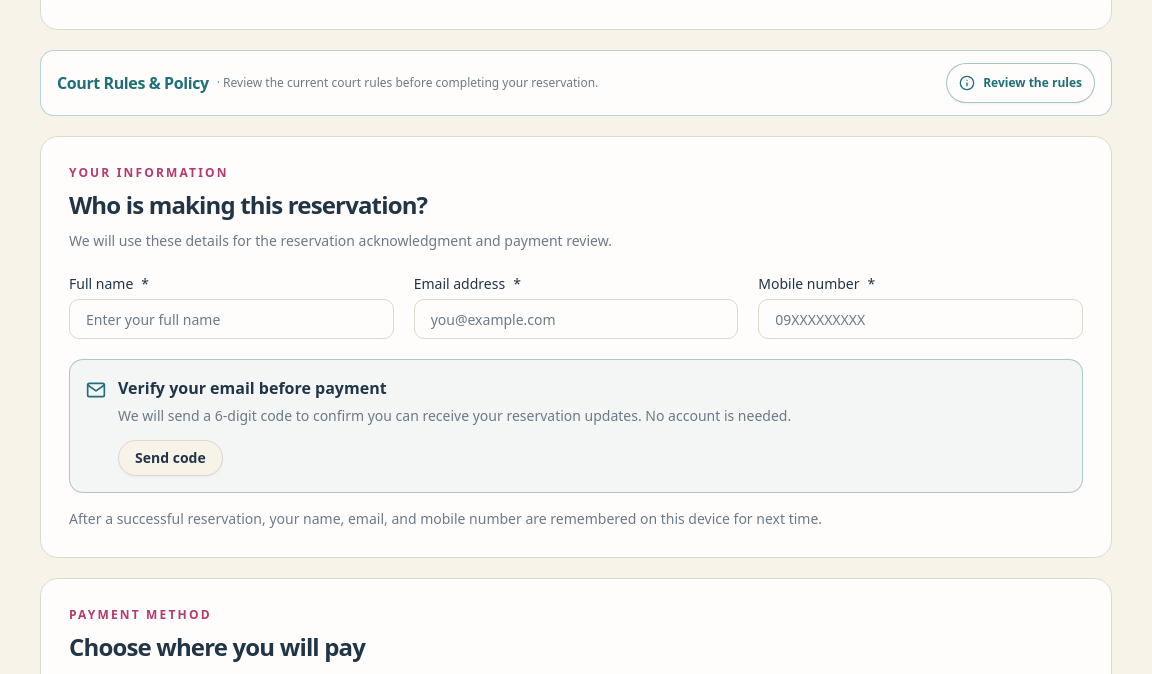
Scenario: ReservationCheckout › keeps unavailable selections locked after successful email verification
(page scrolled)
Step 1. Type "mark@example.com" into the field labelled "Email address" → [576, 319], box [414,299,738,339]
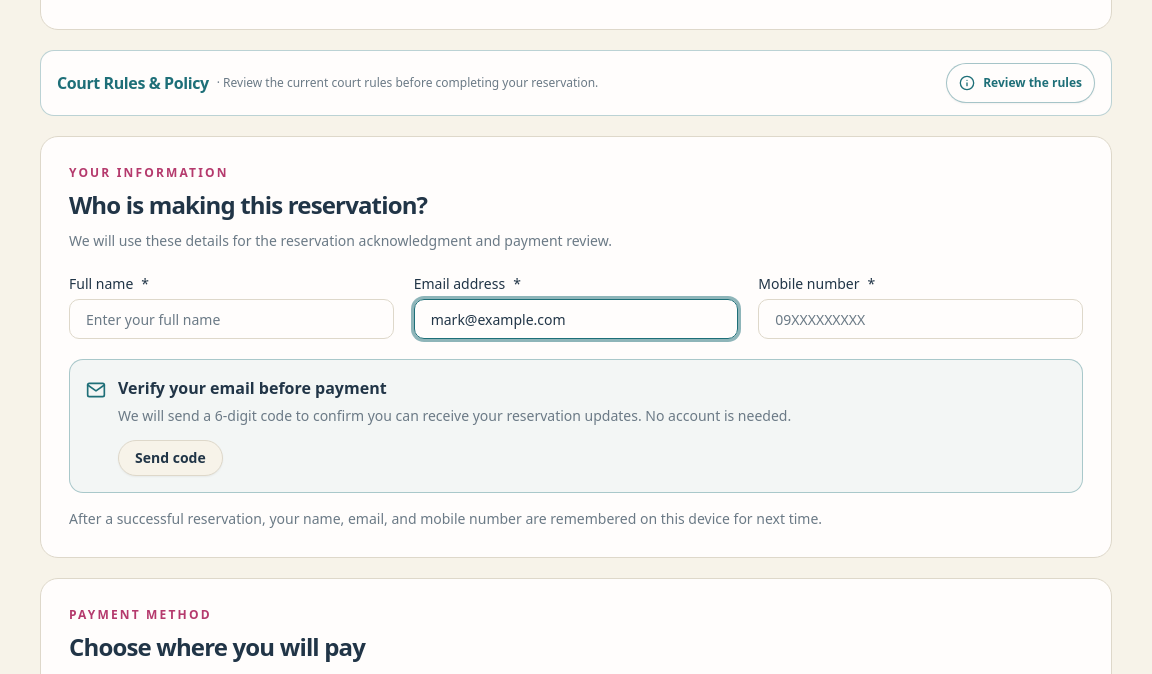
Step 2. Click the button "Send code" → [170, 458], box [118,440,223,476]
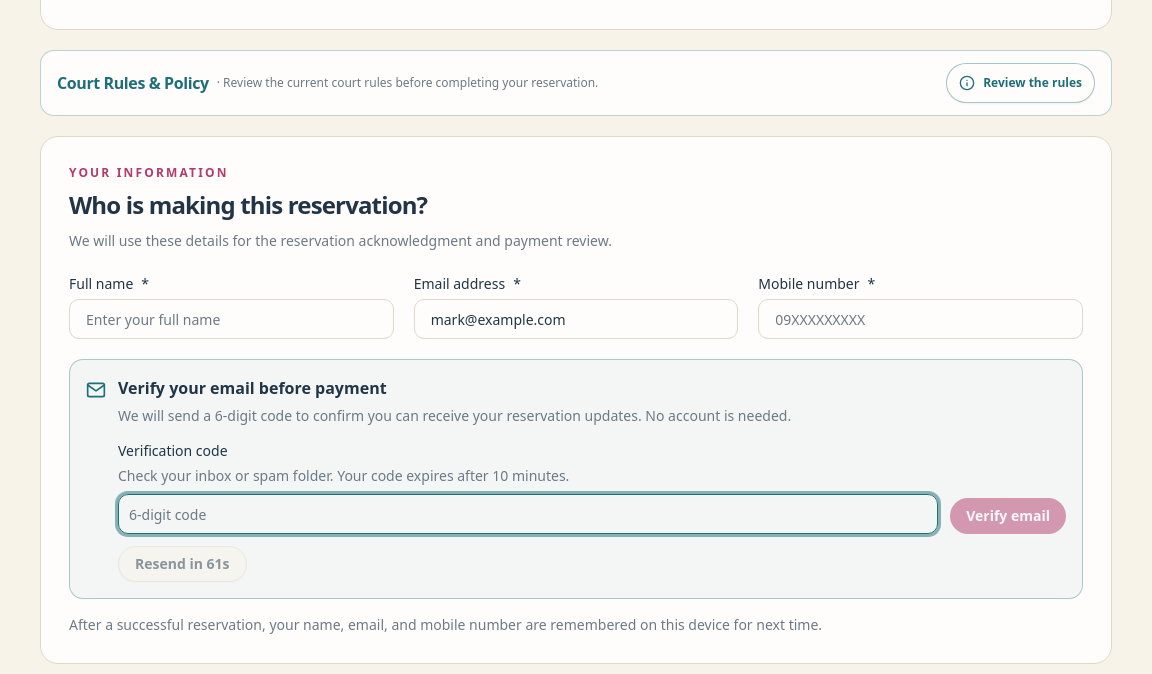
Step 3. Type "123456" into the field labelled "Verification code" → [528, 514], box [118,494,938,534]
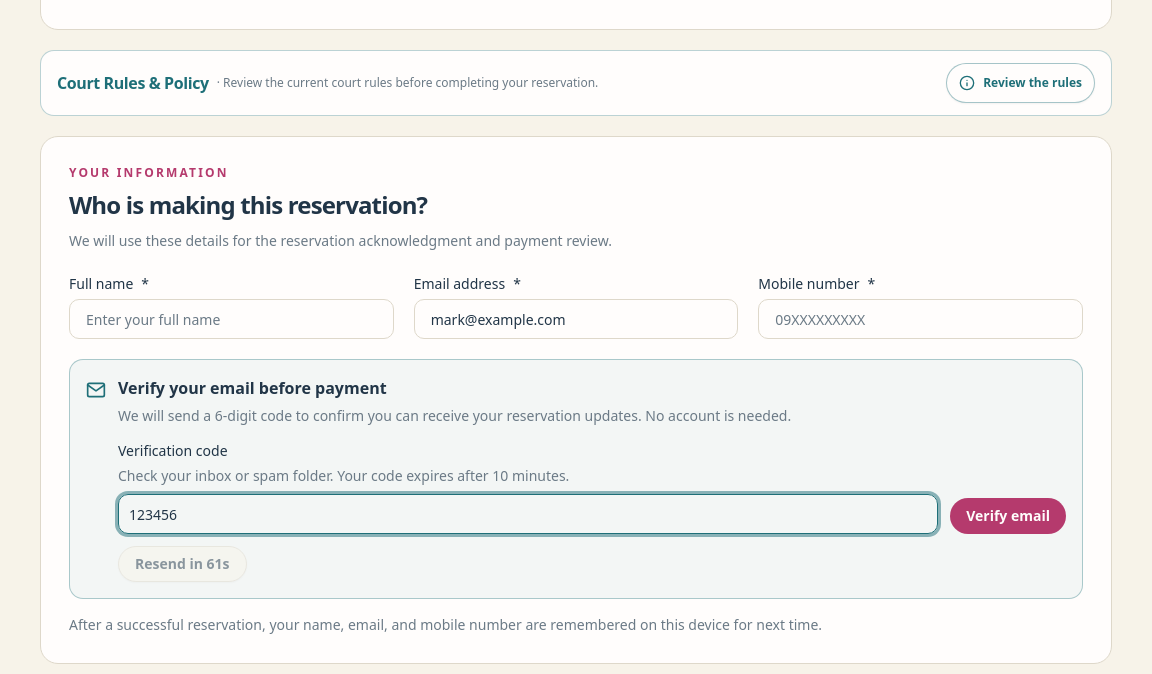
Step 4. Click the button "Verify email" → [1008, 516], box [950,498,1066,534]
(page scrolled)
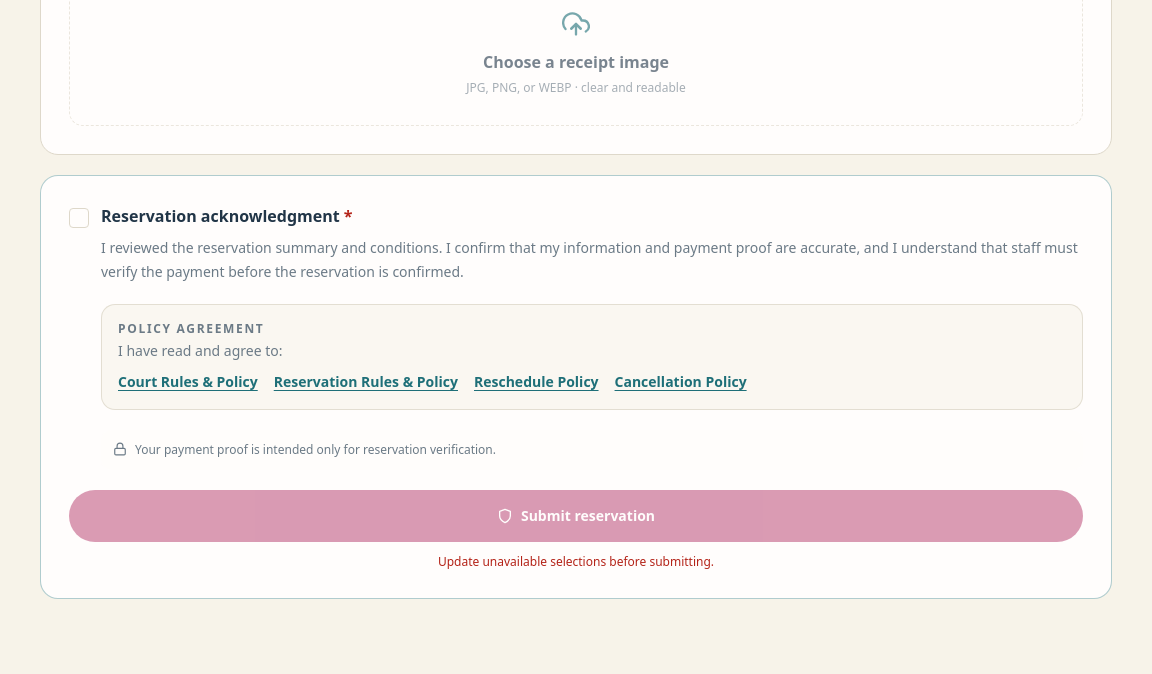
Expected: the button "Submit reservation" is disabled, [69,490,1083,542]
Now the field labelled "GCash payment QR code" is gone
